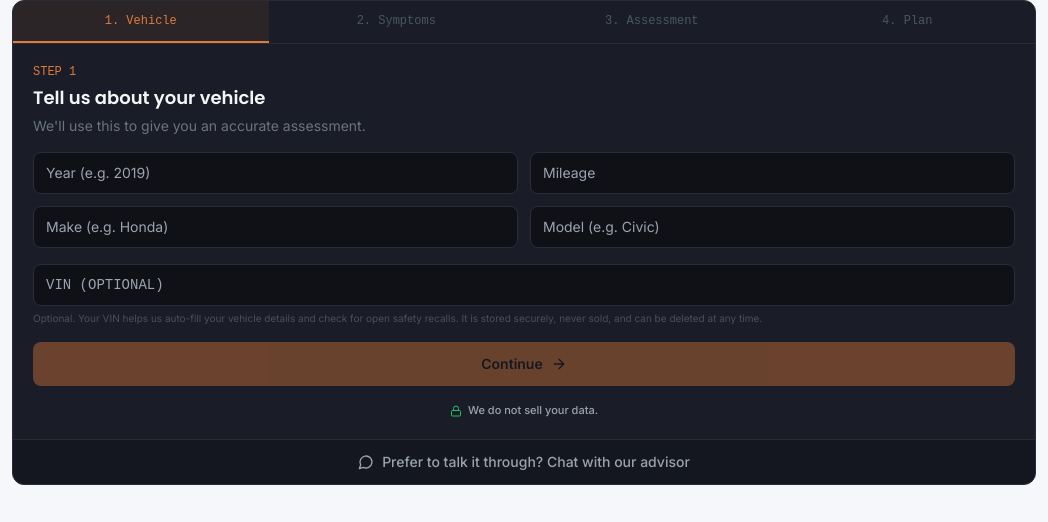
Test: Assessment Flow — Invalid VIN › shows fallback when NHTSA returns no make/model
Type "1FTEW1EP5KFA00001" into the field with placeholder "VIN (optional)" at (524, 285), box [33,264,1015,306]
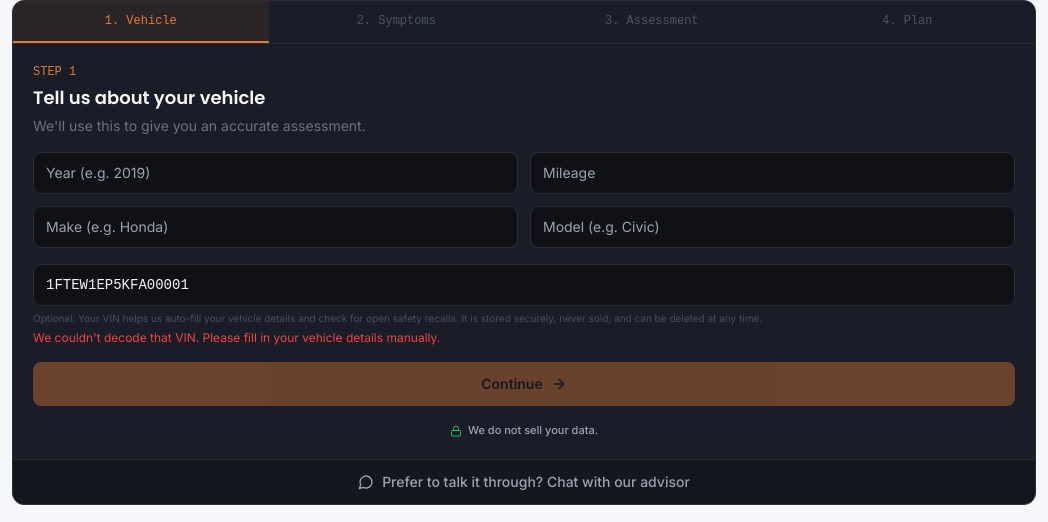
Check: the text "couldn't decode that VIN" is shown, box [33,330,440,345]
